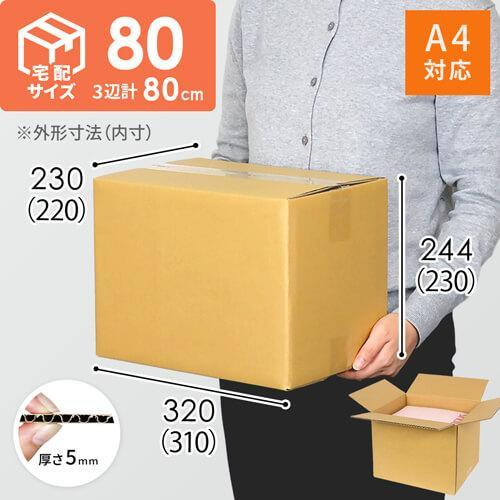box: (84, 154, 395, 392), (350, 374, 490, 490)
